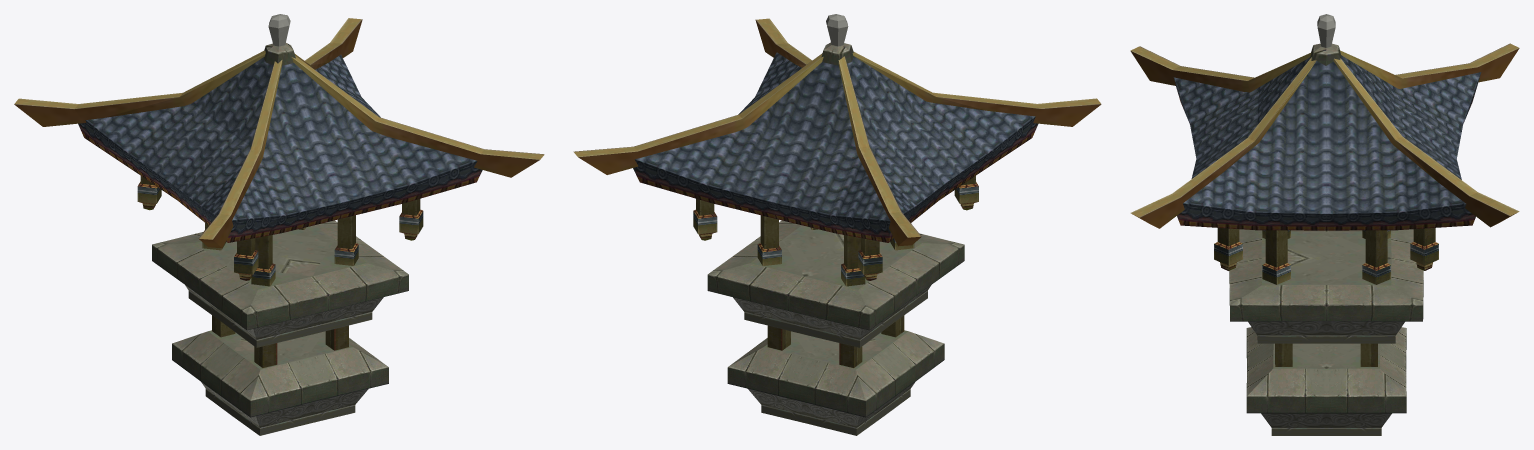
The model's file is Yland3_jz_05 Yland3.FBX.
3 views of the same model, side by side, from view 1: azimuth 30°, elevation 25°; view 2: azimuth 150°, elevation 25°; view 3: azimuth 270°, elevation 25° (orthographic).
Visible parts, largest first — view 1: Yland3_jz_05 Yland3; view 2: Yland3_jz_05 Yland3; view 3: Yland3_jz_05 Yland3.
Boxes of the visible parts, bbox=[...] form: Yland3_jz_05 Yland3: bbox=[14, 14, 544, 435]; Yland3_jz_05 Yland3: bbox=[573, 14, 1101, 435]; Yland3_jz_05 Yland3: bbox=[1130, 14, 1519, 435].
Size of the model in its own units: 2.38 by 2.54 by 2.27.
